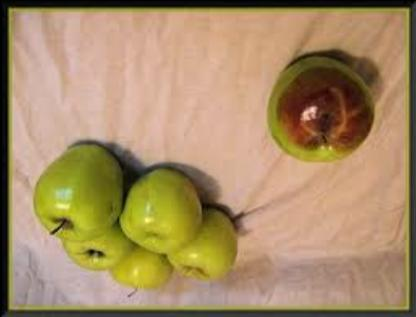defect: (254, 50, 376, 155)
